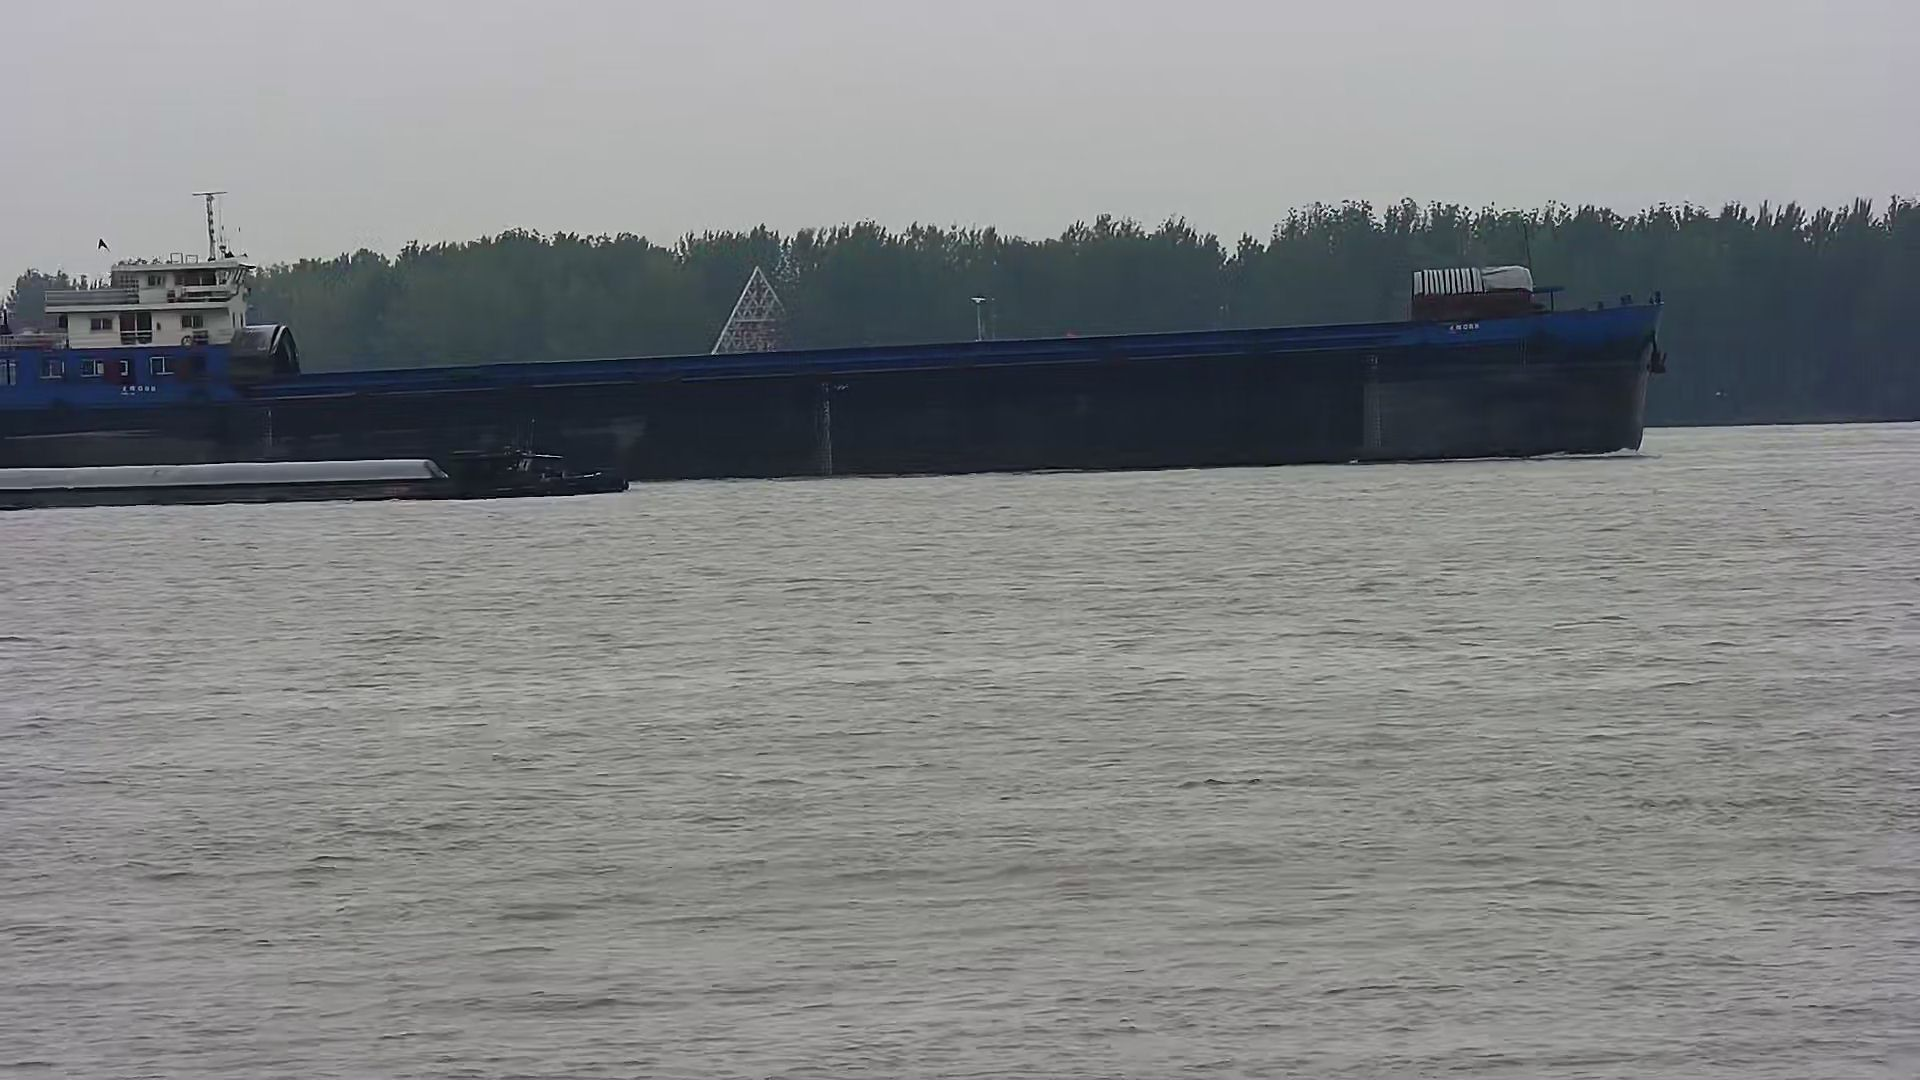ship: (1, 233, 1664, 483), (1, 418, 636, 513)
